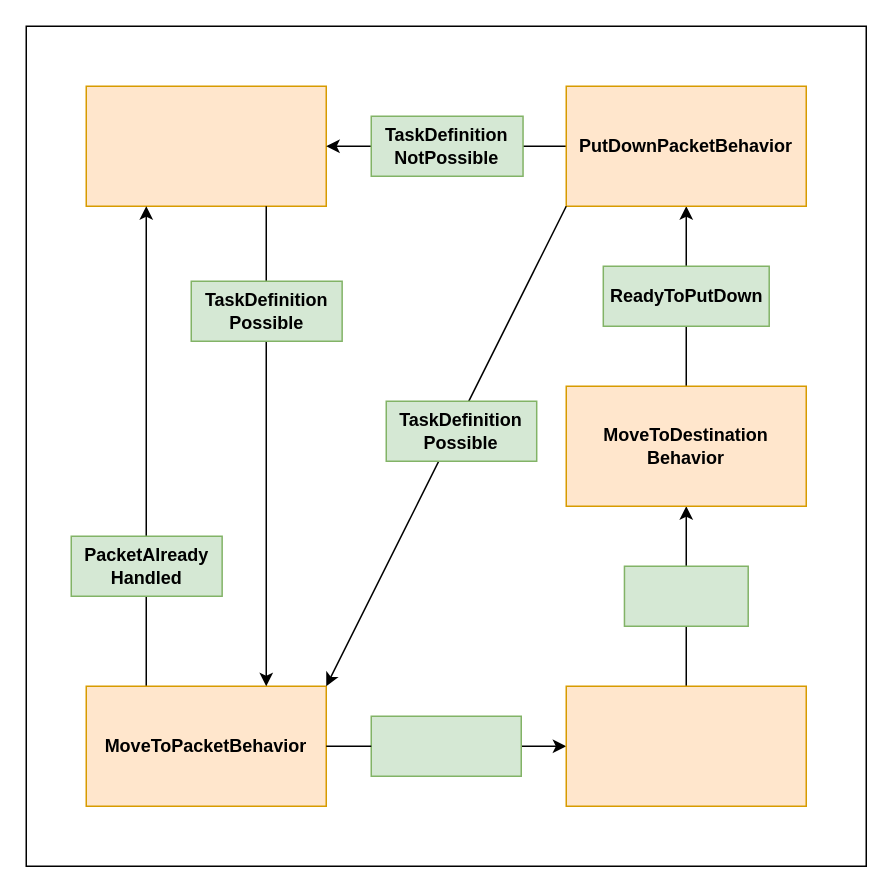
This 893x893 diagram has some shape labels left out. Here are the shapes that lost their labels. From the top down, the centre of each, then its label:
At point 205,145: "MoveRandomBehavior".
At point 685,595: "HasCarry".
At point 445,745: "ReadyToPickUp".
At point 685,745: "PickUpPacketBehavior".
